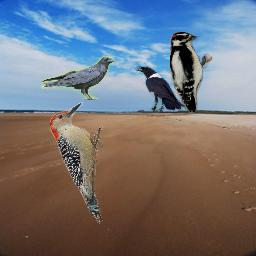Crow: (41, 56, 115, 100), (135, 66, 185, 112)
Woodpecker: (50, 101, 103, 224), (170, 32, 212, 112)
